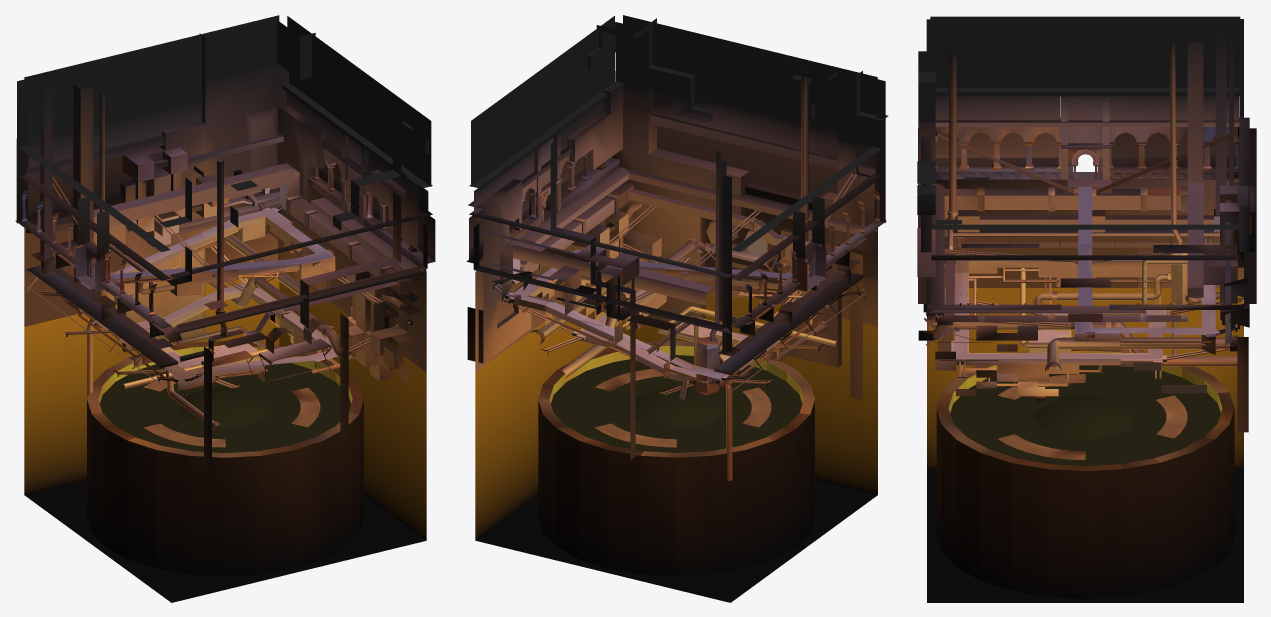
The model's file is 01Opening.gltf.
3 views of the same model, side by side, from view 1: azimuth 30°, elevation 25°; view 2: azimuth 150°, elevation 25°; view 3: azimuth 270°, elevation 25° (orthographic). The views are drawn at different scales.
Visible parts, largest first — view 1: stg031_o35_Mesh_0022, stg031_o35_Mesh_0016, stg031_o35_Mesh_0003, stg031_o35_Mesh_0063, stg031_g35_Mesh_0000, stg031_o35_Mesh_0047, stg031_o35_Mesh_0077, stg031_o35_Mesh_0066, stg031_o35_Mesh_0020, stg031_o35_Mesh_0041, stg031_o35_Mesh_0037, stg031_o35_Mesh_0056 (+13 smaller); view 2: stg031_o35_Mesh_0022, stg031_o35_Mesh_0003, stg031_o35_Mesh_0016, stg031_o35_Mesh_0063, stg031_g35_Mesh_0000, stg031_o35_Mesh_0047, stg031_o35_Mesh_0077, stg031_o35_Mesh_0020, stg031_o35_Mesh_0066, stg031_o35_Mesh_0041, stg031_o35_Mesh_0058, stg031_o35_Mesh_0028 (+13 smaller); view 3: stg031_o35_Mesh_0022, stg031_o35_Mesh_0063, stg031_g35_Mesh_0000, stg031_o35_Mesh_0016, stg031_o35_Mesh_0047, stg031_o35_Mesh_0020, stg031_o35_Mesh_0077, stg031_o35_Mesh_0066, stg031_o35_Mesh_0003, stg031_o35_Mesh_0056, stg031_o35_Mesh_0075, stg031_o35_Mesh_0028 (+17 smaller).
Boxes of the visible parts, <box> form: stg031_o35_Mesh_0022: <box>87,340,363,576</box>; stg031_o35_Mesh_0016: <box>24,270,426,602</box>; stg031_o35_Mesh_0003: <box>93,19,428,446</box>; stg031_o35_Mesh_0063: <box>28,16,431,186</box>; stg031_g35_Mesh_0000: <box>100,359,351,452</box>; stg031_o35_Mesh_0047: <box>15,15,435,328</box>; stg031_o35_Mesh_0077: <box>42,84,421,362</box>; stg031_o35_Mesh_0066: <box>26,80,419,390</box>; stg031_o35_Mesh_0020: <box>25,91,350,429</box>; stg031_o35_Mesh_0041: <box>122,146,421,383</box>; stg031_o35_Mesh_0037: <box>29,120,340,390</box>; stg031_o35_Mesh_0056: <box>24,186,426,372</box>; stg031_o35_Mesh_0022: <box>538,340,814,576</box>; stg031_o35_Mesh_0003: <box>467,18,888,446</box>; stg031_o35_Mesh_0016: <box>475,294,877,602</box>; stg031_o35_Mesh_0063: <box>471,16,873,186</box>; stg031_g35_Mesh_0000: <box>551,355,802,452</box>; stg031_o35_Mesh_0047: <box>466,15,886,328</box>; stg031_o35_Mesh_0077: <box>500,159,866,399</box>; stg031_o35_Mesh_0020: <box>517,70,867,480</box>; stg031_o35_Mesh_0066: <box>486,172,865,397</box>; stg031_o35_Mesh_0041: <box>537,210,671,373</box>; stg031_o35_Mesh_0058: <box>657,125,837,197</box>; stg031_o35_Mesh_0028: <box>519,175,875,459</box>; stg031_o35_Mesh_0022: <box>936,349,1234,598</box>; stg031_o35_Mesh_0063: <box>930,16,1240,87</box>; stg031_g35_Mesh_0000: <box>950,365,1220,465</box>; stg031_o35_Mesh_0016: <box>927,288,1243,602</box>; stg031_o35_Mesh_0047: <box>918,19,1256,309</box>; stg031_o35_Mesh_0020: <box>918,43,1237,386</box>; stg031_o35_Mesh_0077: <box>937,42,1203,351</box>; stg031_o35_Mesh_0066: <box>927,26,1255,396</box>; stg031_o35_Mesh_0003: <box>917,51,1248,459</box>; stg031_o35_Mesh_0056: <box>935,179,1243,287</box>; stg031_o35_Mesh_0075: <box>935,96,1238,120</box>; stg031_o35_Mesh_0028: <box>927,187,1248,460</box>.
Size of the model in its own units: 101 by 141 by 96.33.
